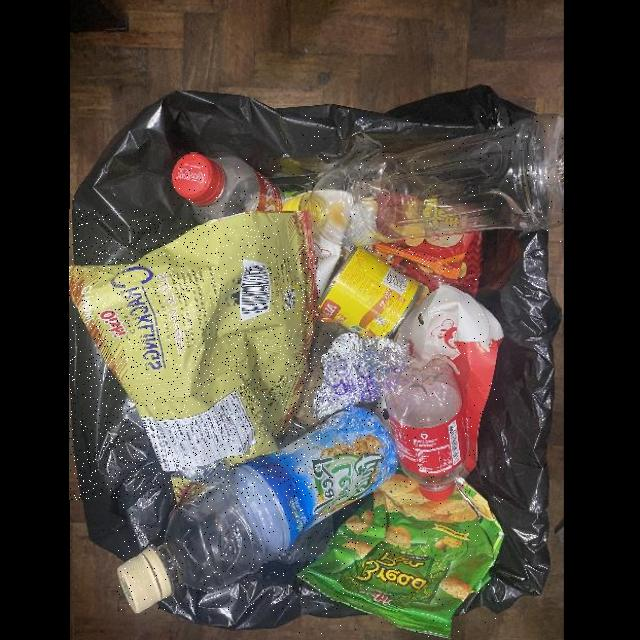metal: (318, 245, 421, 337), (316, 332, 414, 419)
paper: (394, 282, 505, 484)
plastic: (118, 407, 398, 613), (280, 115, 563, 249), (385, 358, 467, 502), (171, 153, 286, 225)
wrapper: (70, 209, 320, 500), (298, 473, 505, 638), (366, 232, 481, 294)
